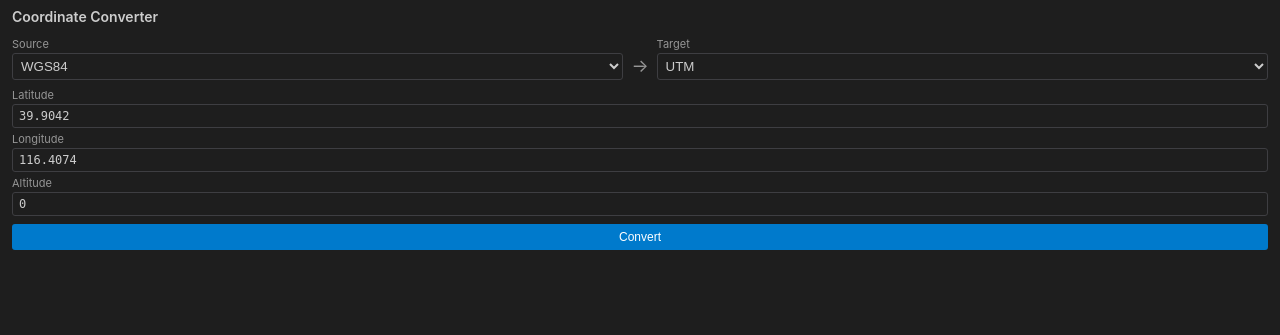
GisToolsPanel › WGS84 → GCJ-02 conversion shows Latitude, Longitude, Altitude results
The image size is (1280, 335).
Select "GCJ-02" in the dropdown labelled "Target" at (962, 66), box [657,53,1268,80]
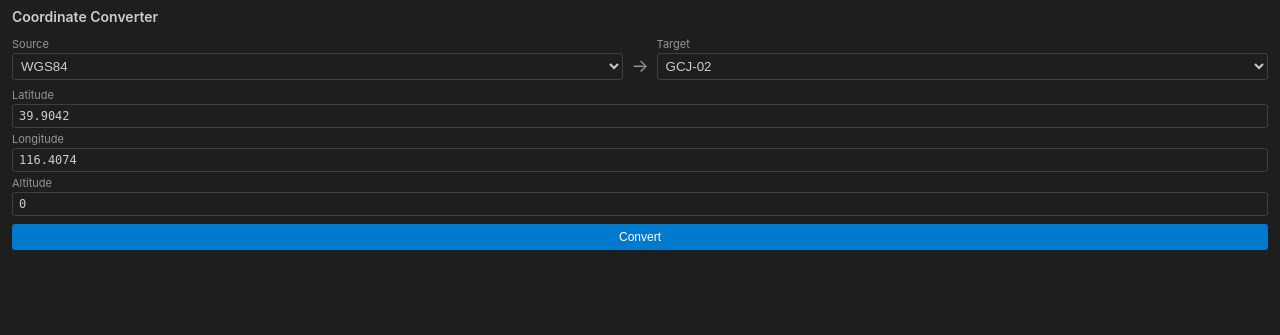
Click the button "Convert" at (640, 237), box [12,224,1268,250]
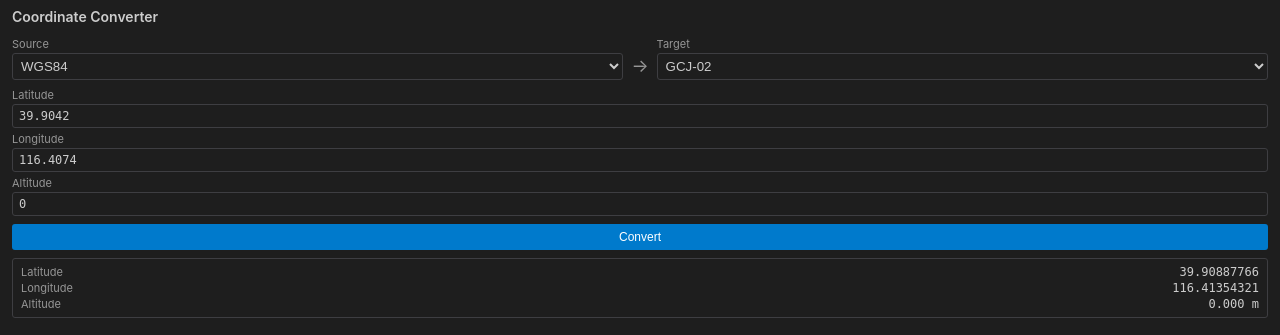
Check: the text "39.90887766" is shown, box [1180,265,1259,279]
Check: the text "116.41354321" is shown, box [1172,281,1259,295]
